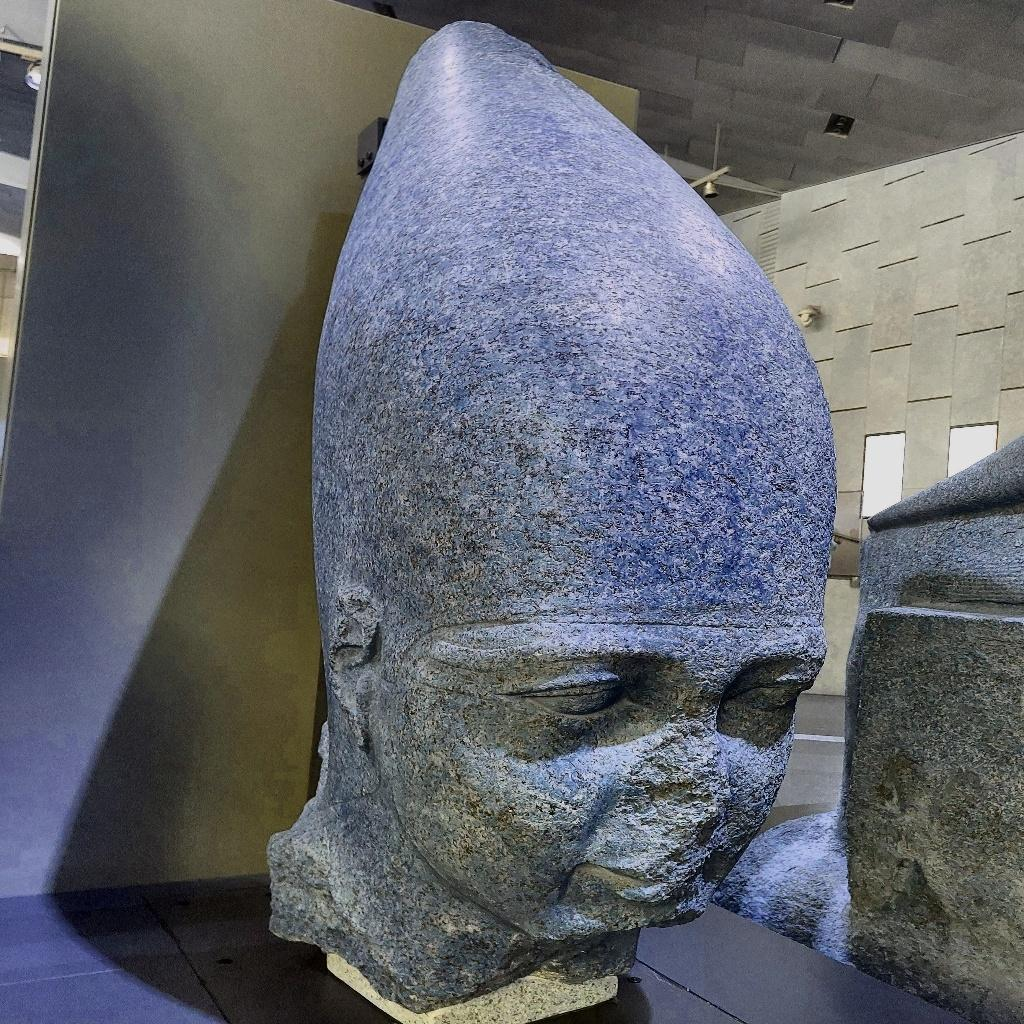Clossal head of Senwosret 1: (260, 18, 842, 1014)
